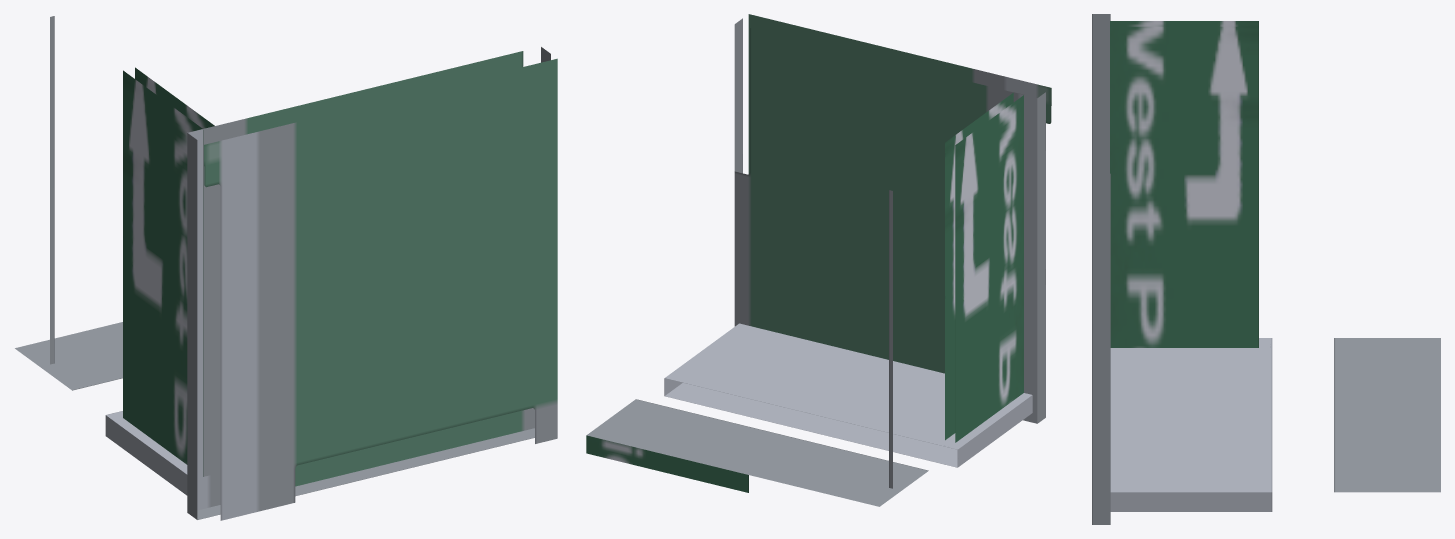
The model's file is section-1.obj.
3 renders of one model, left to right at view 1: azimuth 30°, elevation 25°; view 2: azimuth 150°, elevation 25°; view 3: azimuth 270°, elevation 25°, orthographic. The views are drawn at different scales.
Bounding box in the file's own units: 0.878 × 0.902 × 0.8395.
